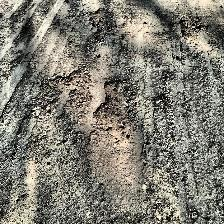pothole: (92, 77, 142, 145), (29, 74, 66, 116), (64, 69, 92, 119), (86, 8, 118, 44), (178, 18, 210, 38)
